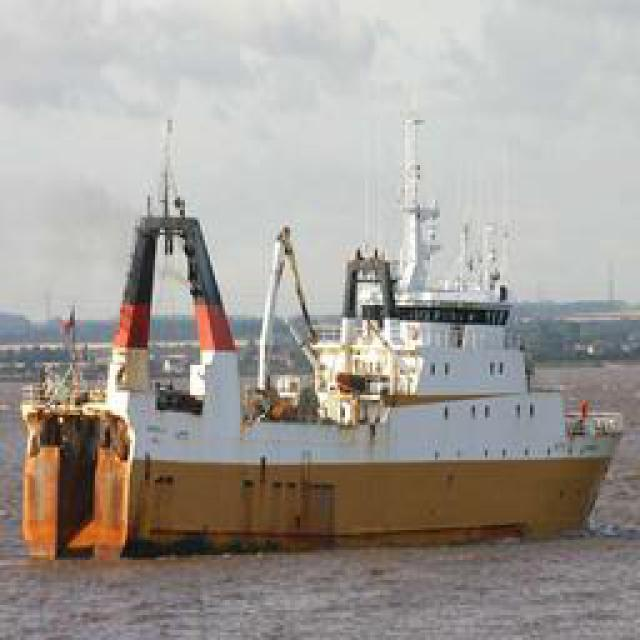Ship: (11, 72, 628, 565)
